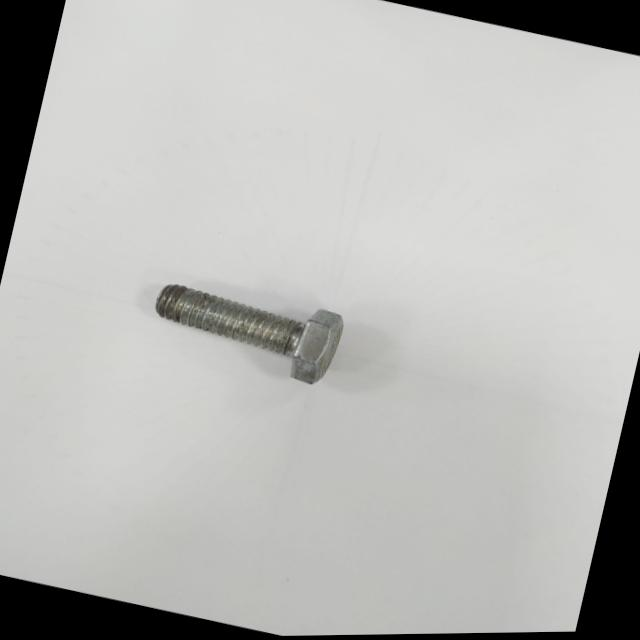Bolt: (155, 284, 343, 385)
